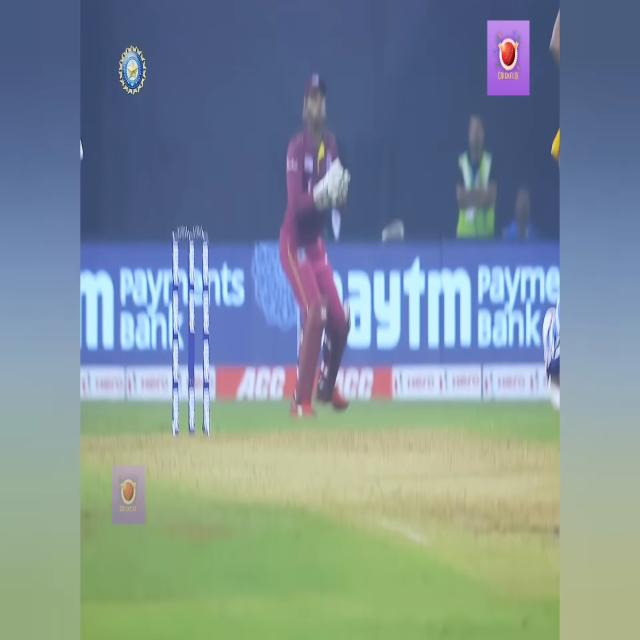partially_visible: (315, 264, 476, 360)
